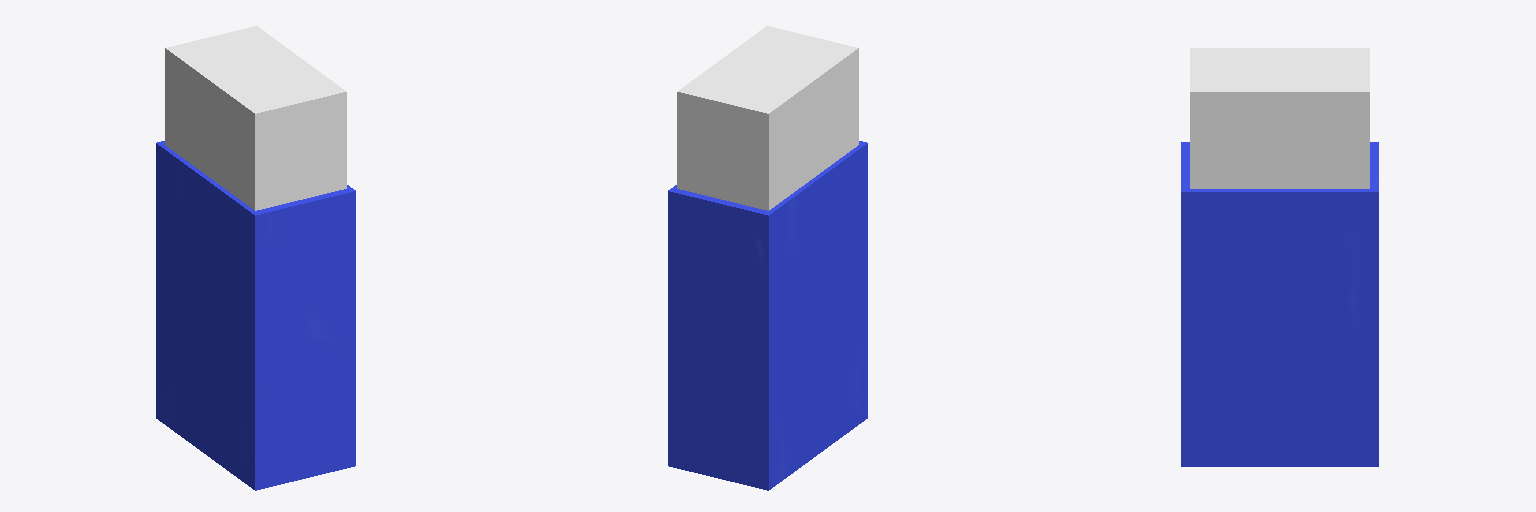
The picture shows the model from 3 angles: view 1: azimuth 30°, elevation 25°; view 2: azimuth 150°, elevation 25°; view 3: azimuth 270°, elevation 25°; orthographic projection.
Visible parts, largest first — view 1: Cube; view 2: Cube; view 3: Cube.
Part boxes in pixels (x1,y1,x2,y2): Cube: (156,26,355,490); Cube: (668,26,867,490); Cube: (1181,48,1378,466).
Size of the model in its own units: 0.7681 by 2.71 by 1.31.
Materials: 1 (1 with a texture image).